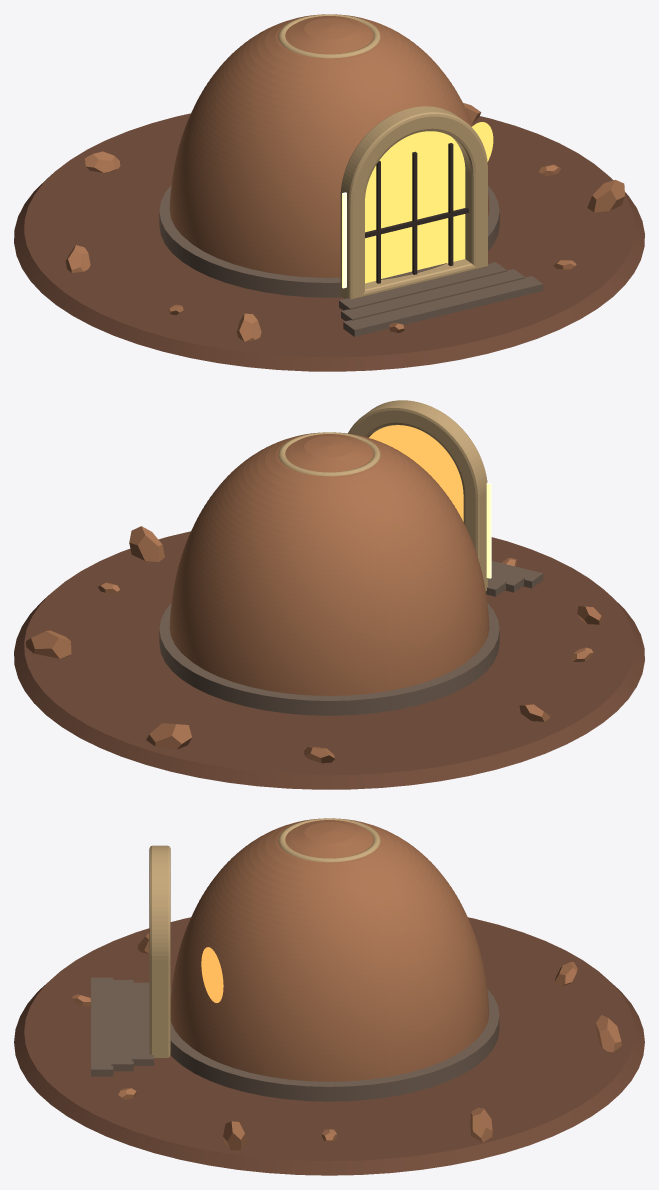
Rendered from home.glb.
The picture shows the model from 3 angles, top to bottom: view 1: azimuth 30°, elevation 25°; view 2: azimuth 150°, elevation 25°; view 3: azimuth 270°, elevation 25°; orthographic projection.
Parts seen in each view (by area): view 1: Foundation, Regolith shell, HOME POD, Warm interior glazing; view 2: Foundation, Regolith shell, HOME POD, Warm interior glazing, Entrance light; view 3: Foundation, Regolith shell, HOME POD.
Part boxes in pixels (x1,y1,x2,y2): Foundation: (14,113,644,371); Regolith shell: (169,14,489,277); HOME POD: (65,14,624,341); Warm interior glazing: (365,131,465,283); Foundation: (14,531,644,789); Regolith shell: (169,432,489,695); HOME POD: (26,400,604,763); Warm interior glazing: (369,425,463,521); Entrance light: (486,482,491,578); Foundation: (14,917,644,1175); Regolith shell: (170,818,489,1081); HOME POD: (72,818,621,1150).
Bounding box in the file's own units: 6.2 × 2.38 × 6.2.
